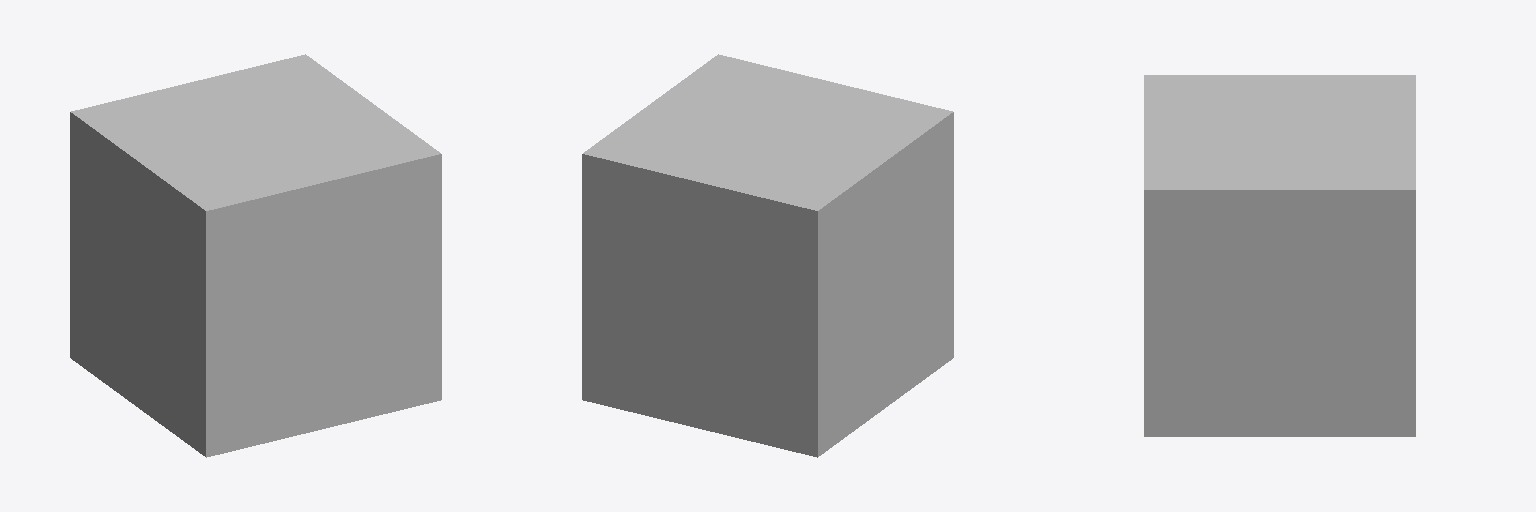
The model's file is FM_doorbell_on.obj.
The picture shows the model from 3 angles: view 1: azimuth 30°, elevation 25°; view 2: azimuth 150°, elevation 25°; view 3: azimuth 270°, elevation 25°; orthographic projection.
Parts seen in each view (by area): view 1: BoundingBox_Cube; view 2: BoundingBox_Cube; view 3: BoundingBox_Cube.
Boxes of the visible parts, x1,y1,x2,y2 form: BoundingBox_Cube: [70, 54, 441, 457]; BoundingBox_Cube: [582, 54, 953, 457]; BoundingBox_Cube: [1144, 75, 1415, 436].
Size of the model in its own units: 1 by 1 by 1.